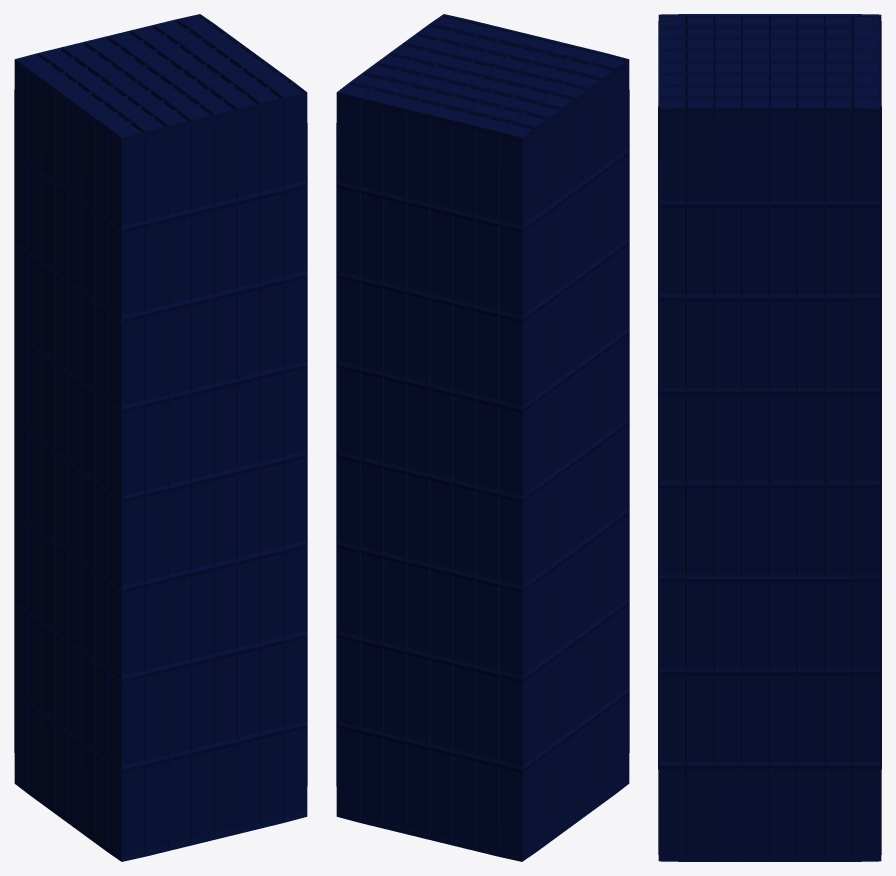
The model's file is Cyberpunk Glass Skyscraper.fbx.
3 renders of one model, left to right at view 1: azimuth 30°, elevation 25°; view 2: azimuth 150°, elevation 25°; view 3: azimuth 270°, elevation 25°, orthographic. The views are drawn at different scales.
Parts seen in each view (by area): view 1: Glass Skyscraper; view 2: Glass Skyscraper; view 3: Glass Skyscraper.
Boxes of the visible parts, box(x1,y1,x2,y2) form: Glass Skyscraper: box(14, 14, 307, 861); Glass Skyscraper: box(336, 14, 629, 861); Glass Skyscraper: box(658, 14, 881, 861).
Size of the model in its own units: 1942 by 7238 by 1942.
